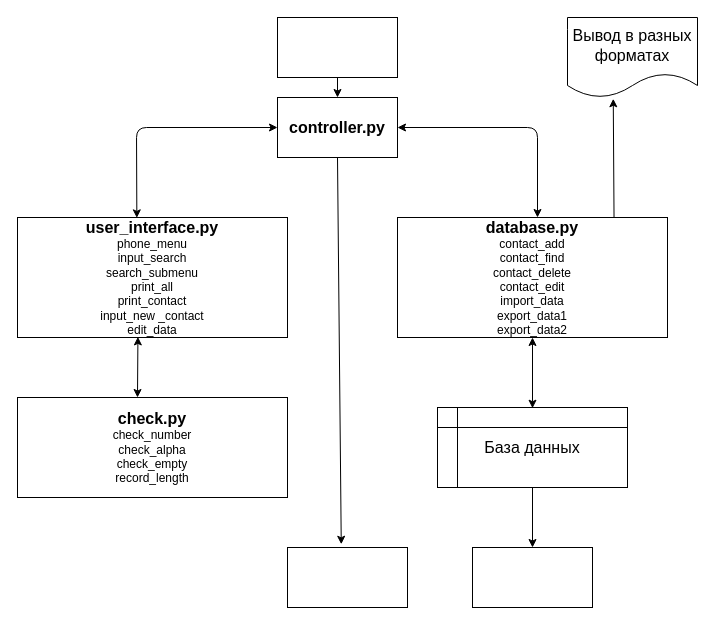
The diagram is 715 pixels wide and 625 high, and some of its shapes have lost their labels. Each missing label, with the centre of its shape:
"backup.py" belongs at point 532,577.
"button.py" belongs at point 337,47.
"log.py" belongs at point 347,577.
